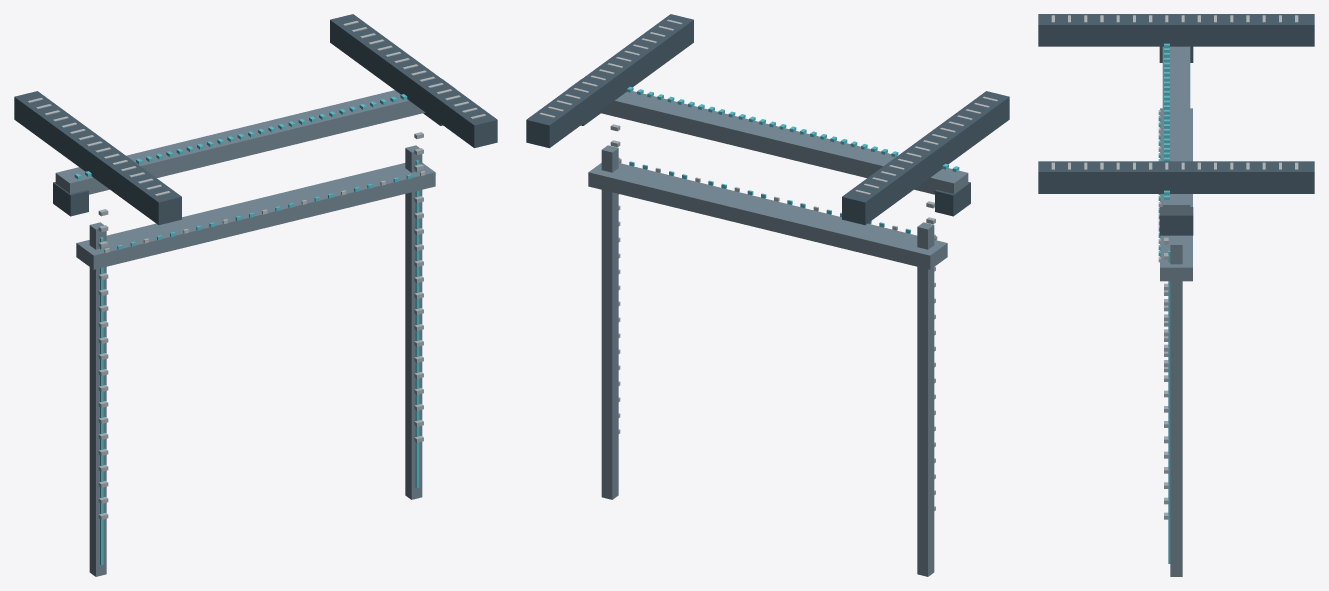
The model's file is 14_L79_SixAxisHybridBondingGantry.glb.
3 renders of one model, left to right at view 1: azimuth 30°, elevation 25°; view 2: azimuth 150°, elevation 25°; view 3: azimuth 270°, elevation 25°, orthographic. The views are drawn at different scales.
Visible parts, largest first — view 1: SixAxisHybridBondingGantry_Node_0044, SixAxisHybridBondingGantry_Node_0104, SixAxisHybridBondingGantry_Node_0070, SixAxisHybridBondingGantry_Node_0087, SixAxisHybridBondingGantry_Node_0000, SixAxisHybridBondingGantry_Node_0022, SixAxisHybridBondingGantry_Node_0023, SixAxisHybridBondingGantry_Node_0001, SixAxisHybridBondingGantry_Node_0142; view 2: SixAxisHybridBondingGantry_Node_0044, SixAxisHybridBondingGantry_Node_0104, SixAxisHybridBondingGantry_Node_0070, SixAxisHybridBondingGantry_Node_0087, SixAxisHybridBondingGantry_Node_0000, SixAxisHybridBondingGantry_Node_0022, SixAxisHybridBondingGantry_Node_0142; view 3: SixAxisHybridBondingGantry_Node_0070, SixAxisHybridBondingGantry_Node_0087, SixAxisHybridBondingGantry_Node_0022, SixAxisHybridBondingGantry_Node_0104, SixAxisHybridBondingGantry_Node_0044, SixAxisHybridBondingGantry_Node_0023, SixAxisHybridBondingGantry_Node_0143.
Part boxes in pixels (x1,y1,x2,y2): SixAxisHybridBondingGantry_Node_0044: [76, 163, 435, 269]; SixAxisHybridBondingGantry_Node_0104: [55, 79, 455, 194]; SixAxisHybridBondingGantry_Node_0070: [14, 91, 181, 224]; SixAxisHybridBondingGantry_Node_0087: [330, 14, 497, 148]; SixAxisHybridBondingGantry_Node_0000: [89, 222, 106, 576]; SixAxisHybridBondingGantry_Node_0022: [405, 145, 422, 499]; SixAxisHybridBondingGantry_Node_0023: [415, 160, 419, 487]; SixAxisHybridBondingGantry_Node_0001: [100, 237, 103, 564]; SixAxisHybridBondingGantry_Node_0142: [53, 182, 88, 216]; SixAxisHybridBondingGantry_Node_0044: [588, 163, 947, 269]; SixAxisHybridBondingGantry_Node_0104: [568, 79, 968, 194]; SixAxisHybridBondingGantry_Node_0070: [842, 91, 1009, 224]; SixAxisHybridBondingGantry_Node_0087: [526, 14, 693, 148]; SixAxisHybridBondingGantry_Node_0000: [917, 222, 934, 576]; SixAxisHybridBondingGantry_Node_0022: [601, 145, 618, 499]; SixAxisHybridBondingGantry_Node_0142: [935, 182, 970, 216]; SixAxisHybridBondingGantry_Node_0070: [1038, 14, 1314, 46]; SixAxisHybridBondingGantry_Node_0087: [1038, 161, 1314, 193]; SixAxisHybridBondingGantry_Node_0022: [1170, 239, 1182, 576]; SixAxisHybridBondingGantry_Node_0104: [1162, 46, 1190, 214]; SixAxisHybridBondingGantry_Node_0044: [1160, 108, 1192, 281]; SixAxisHybridBondingGantry_Node_0023: [1168, 250, 1170, 563]; SixAxisHybridBondingGantry_Node_0143: [1159, 207, 1193, 235].
Bounding box in the file's own units: 7.14 × 7.5 × 4.6.
